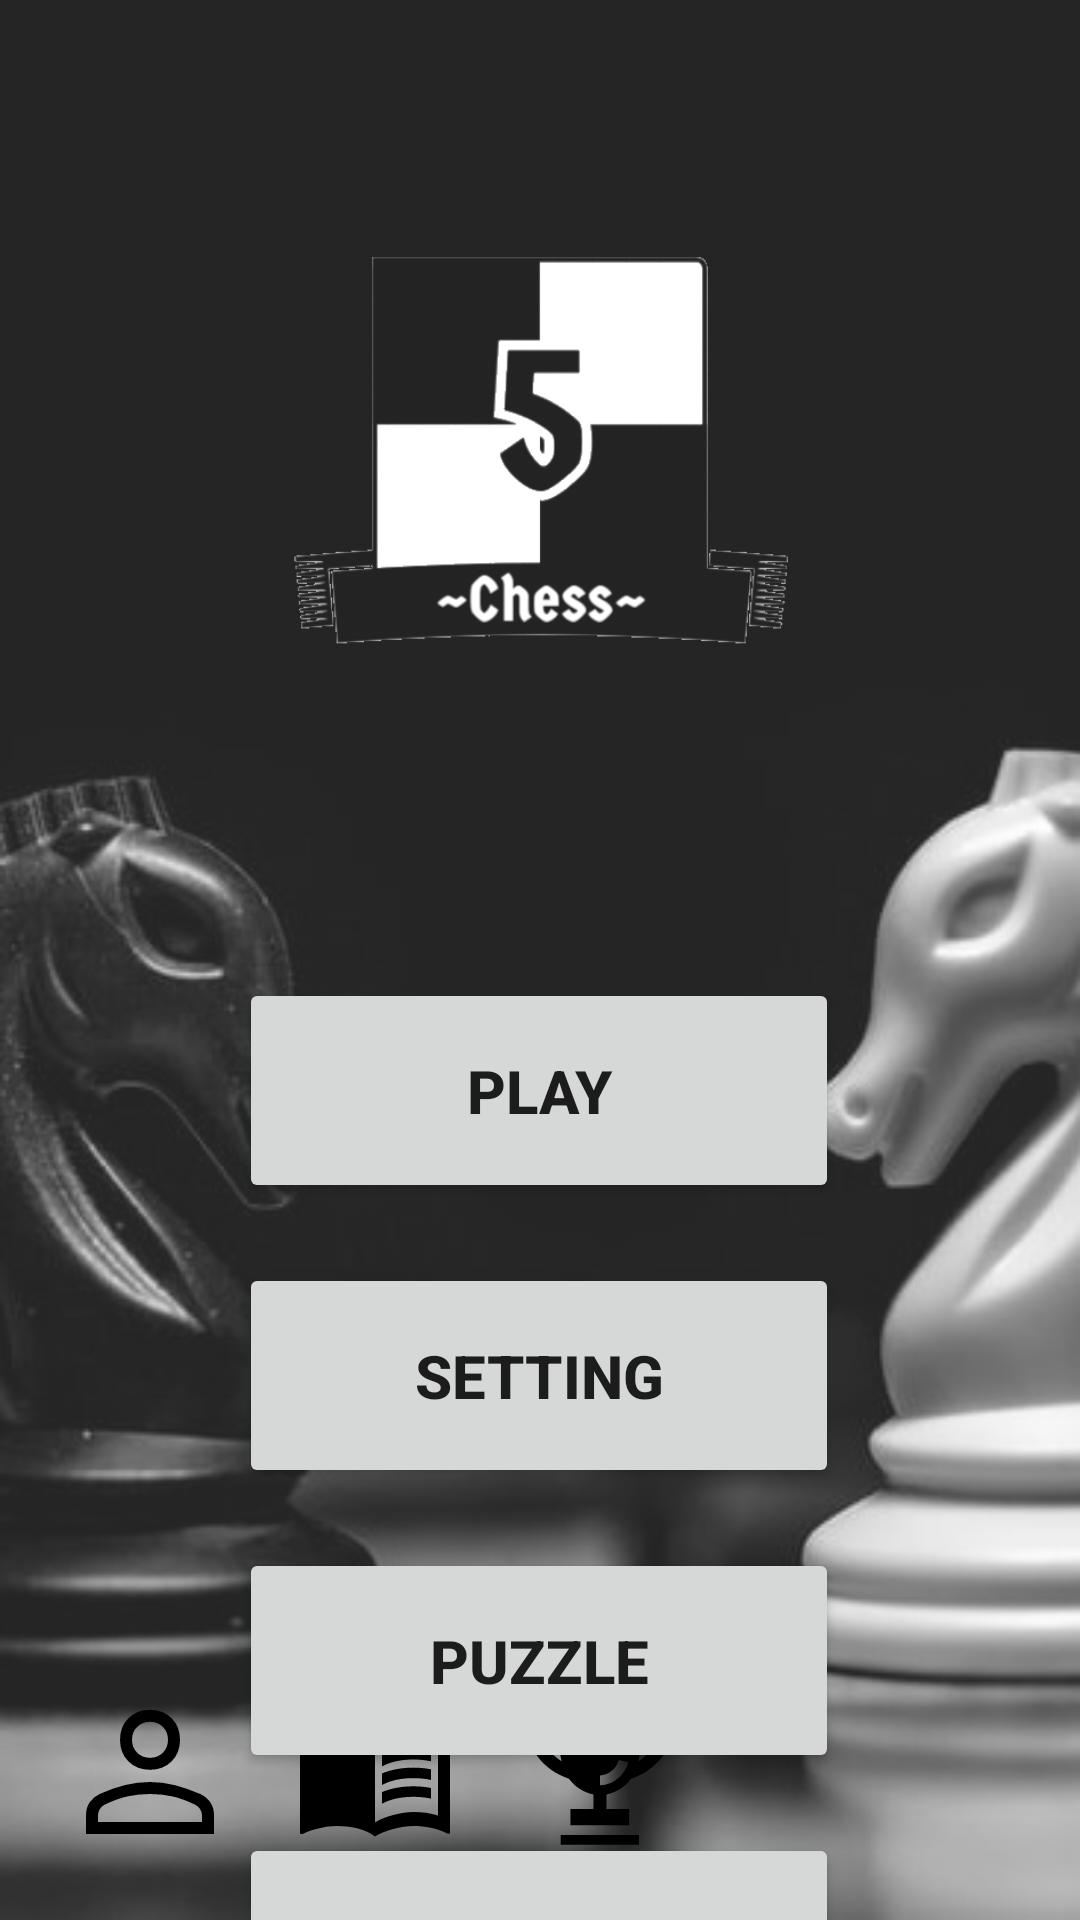

Where to tap for icons on this 1080px x 1920px app screen, as (x,y):
human: (150,1770)
